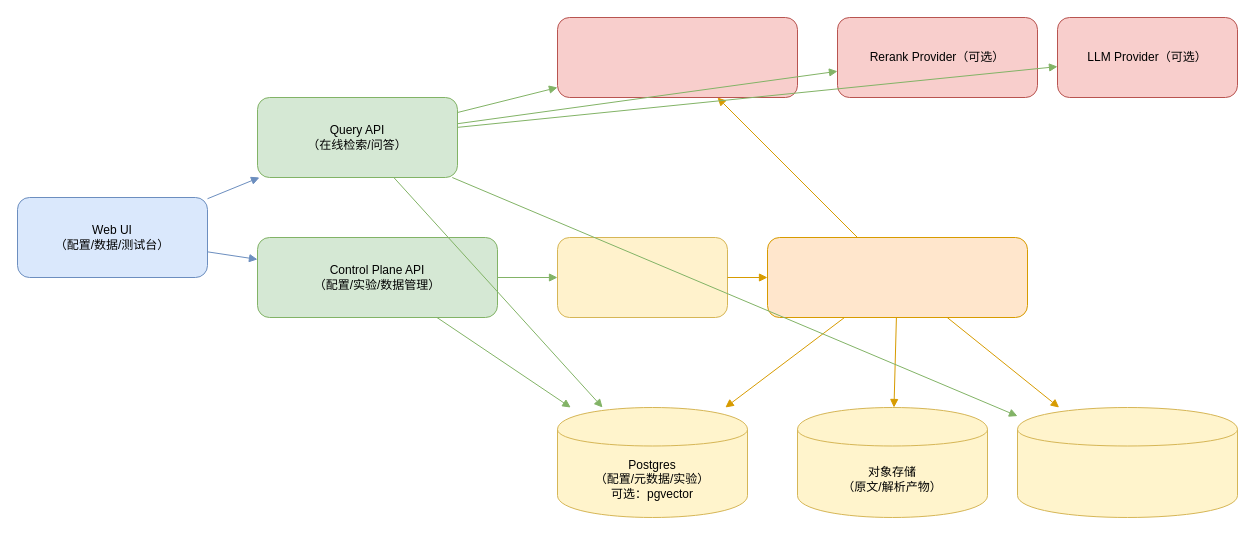
Image size: 1255x535. Some labels were removed from this diagram. Each missing label, with the box of its shape:
Embedding Provider 本地开源模型 / 公司服务: (556, 16, 798, 98)
Vector Store （可插拔） pgvector / Qdrant / Milvus: (1016, 406, 1238, 518)
Worker （解析/切分/Embedding/建索引）: (766, 236, 1028, 318)
任务队列/调度器: (556, 236, 728, 318)
